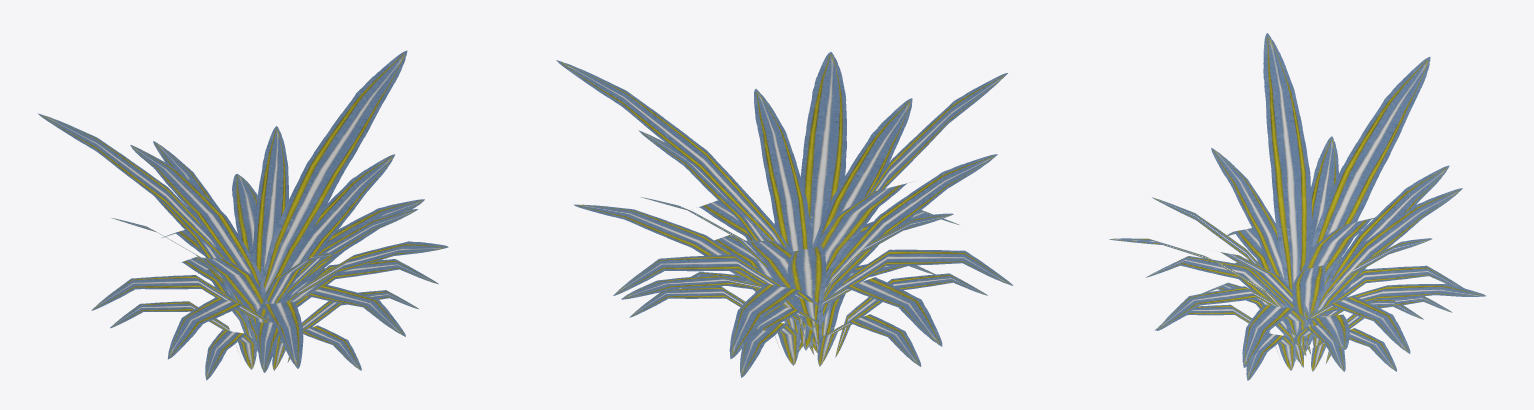
The model's file is plante_4_2.FBX.
3 renders of one model, left to right at view 1: azimuth 30°, elevation 25°; view 2: azimuth 150°, elevation 25°; view 3: azimuth 270°, elevation 25°, orthographic. The views are drawn at different scales.
Visible parts, largest first — view 1: Plane347; view 2: Plane347; view 3: Plane347.
Boxes of the visible parts, <box> form: Plane347: <box>38,50,448,380</box>; Plane347: <box>556,52,1012,377</box>; Plane347: <box>1109,33,1485,380</box>.
Bounding box in the file's own units: 162 × 110 × 155.
